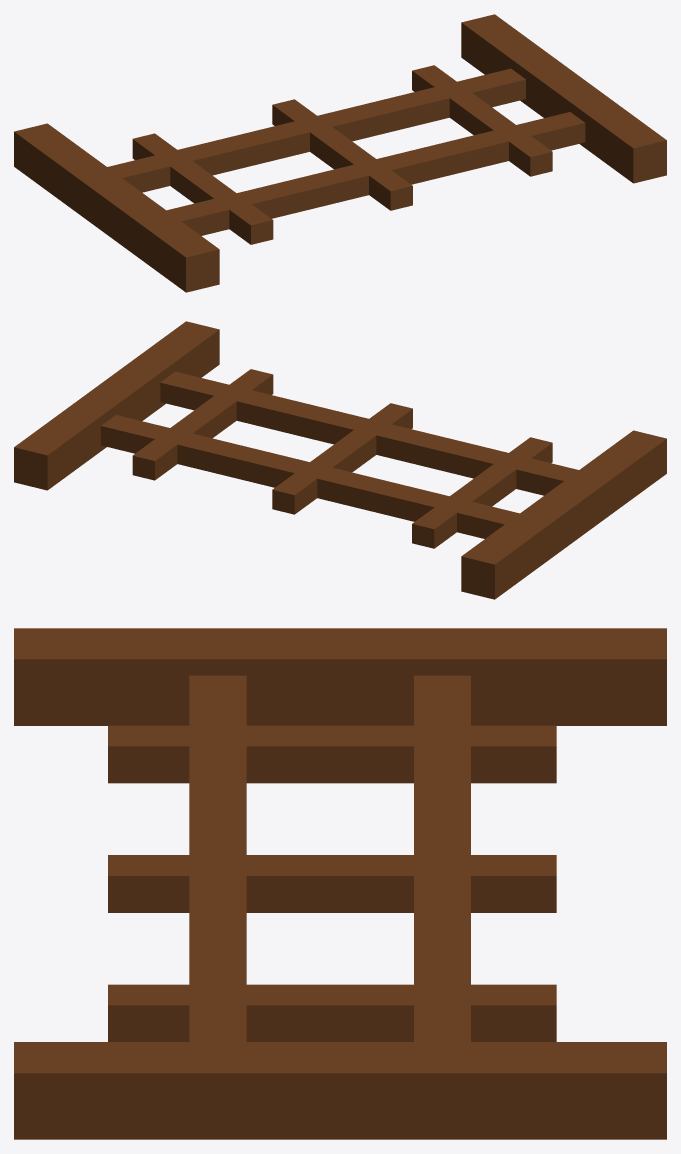
The model's file is SM_ShFarmGate.obj.
3 renders of one model, top to bottom at view 1: azimuth 30°, elevation 25°; view 2: azimuth 150°, elevation 25°; view 3: azimuth 270°, elevation 25°, orthographic. The views are drawn at different scales.
Bounding box in the file's own units: 258 × 18 × 160.
